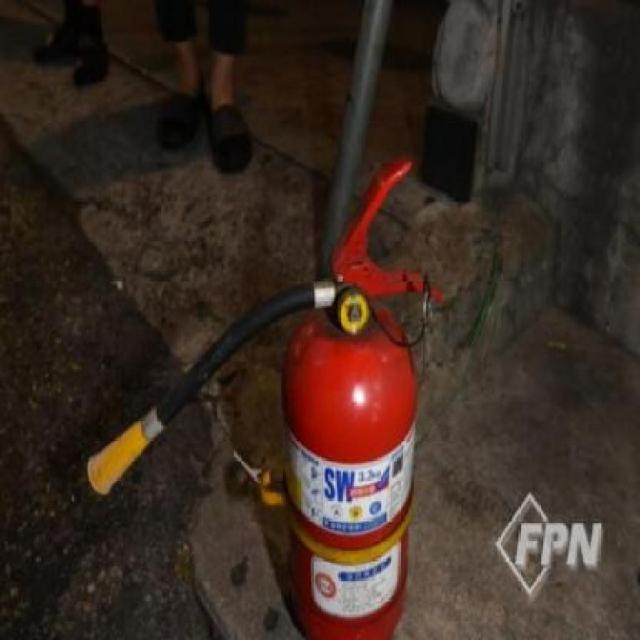fire extinguisher: (87, 155, 444, 640)
